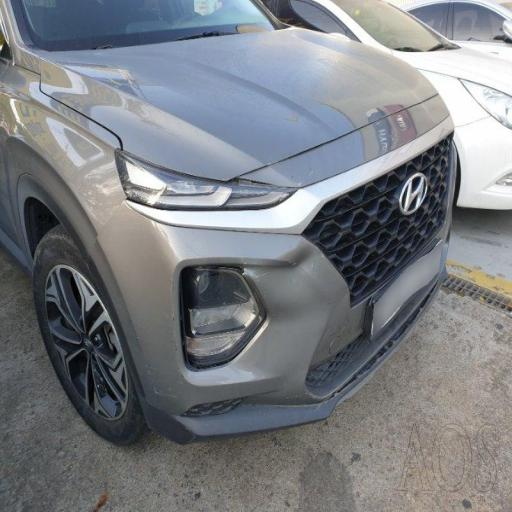scratch: (60, 127, 200, 302)
